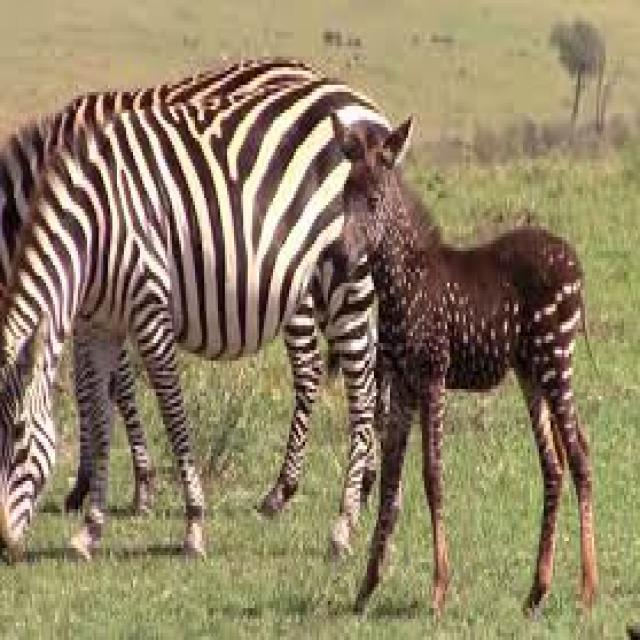zebra: (0, 57, 590, 608)
